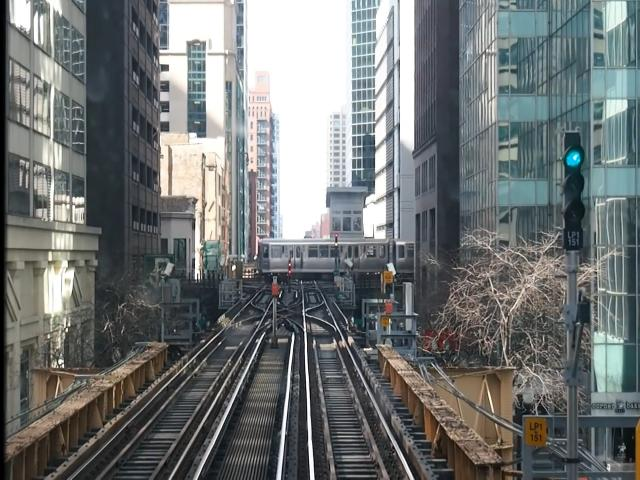signal light: (560, 128, 591, 257)
